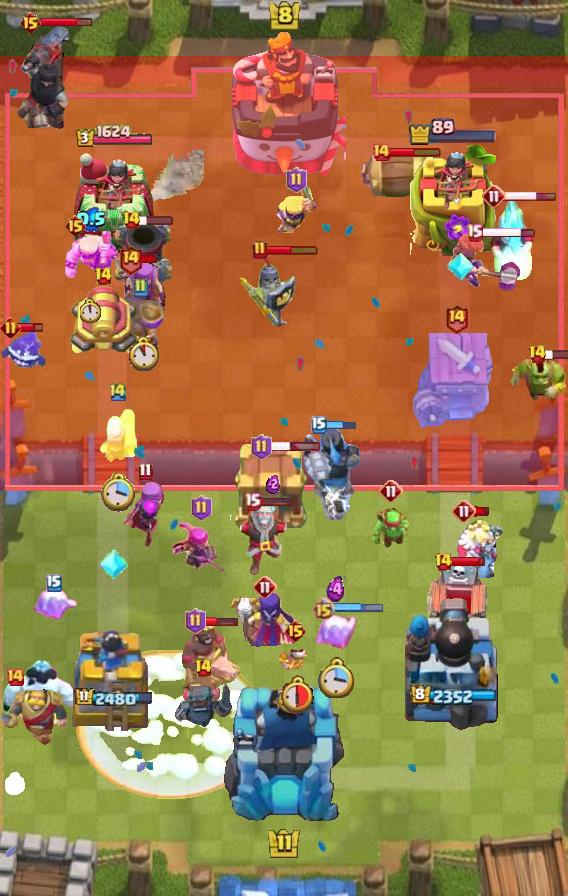archer-evolution: (172, 520, 230, 578)
bar: (481, 226, 536, 239), (266, 244, 319, 256), (389, 146, 442, 158), (332, 602, 383, 614), (503, 191, 557, 202), (40, 17, 93, 28), (269, 441, 321, 452), (9, 321, 44, 334), (450, 556, 486, 568), (138, 214, 174, 226), (204, 616, 239, 627), (258, 496, 293, 507), (325, 420, 357, 431), (544, 348, 568, 360), (140, 253, 159, 265), (474, 506, 491, 517)
bar-level: (444, 303, 469, 334), (118, 244, 143, 275), (253, 575, 277, 599), (452, 499, 476, 523), (379, 479, 403, 503), (482, 184, 506, 208), (284, 619, 307, 643), (64, 214, 87, 238), (19, 11, 42, 35), (185, 608, 206, 634), (191, 495, 212, 521), (251, 434, 272, 460), (286, 167, 307, 193), (312, 597, 335, 620), (0, 317, 21, 338), (108, 381, 128, 402), (5, 667, 25, 687), (371, 142, 391, 162), (194, 658, 213, 678), (434, 552, 453, 572), (528, 344, 547, 364), (94, 266, 113, 286), (122, 210, 141, 230), (244, 492, 261, 511), (466, 223, 483, 242), (132, 278, 148, 298), (252, 240, 268, 260), (46, 574, 62, 592), (311, 416, 327, 434), (138, 462, 153, 481)
barbarian-barrel: (358, 151, 434, 201)
barbarian-evolution: (63, 231, 120, 280), (275, 187, 317, 233)
cannoneer-tower: (405, 595, 501, 731)
clock: (318, 657, 355, 698), (277, 674, 314, 714), (101, 473, 136, 513), (126, 336, 161, 372), (80, 298, 102, 323), (5, 772, 25, 795)
dirt: (144, 150, 204, 208)
electro-spirit: (0, 330, 46, 374)
elixir: (75, 207, 107, 232), (326, 576, 346, 603), (266, 474, 280, 494)
firecracker: (97, 406, 139, 464)
goblin-brawler: (508, 354, 568, 408)
guard: (239, 251, 297, 331)
ice-spirit-evolution: (313, 611, 359, 653), (29, 587, 79, 625)
ice-spirit-evolution-symbol: (100, 547, 128, 581), (446, 251, 474, 283)
ice-wizard: (224, 498, 304, 576), (487, 193, 537, 285)
king-tower: (222, 31, 346, 181), (221, 682, 347, 826)
knight: (0, 688, 69, 745)
mini-pekka: (173, 679, 233, 729)
mortar: (111, 219, 175, 285)
mother-witch: (120, 480, 170, 550), (116, 258, 170, 322)
musketeer: (112, 294, 168, 354)
queen-tower: (64, 621, 164, 731), (410, 145, 496, 256), (71, 152, 157, 256)
royal-ghost: (452, 516, 506, 578)
skeleton: (279, 643, 311, 675)
spear-goblin: (371, 506, 411, 550)
tower-bar: (408, 118, 498, 146), (75, 124, 154, 149), (410, 685, 497, 707), (74, 687, 154, 709)
valkyrie-evolution: (449, 229, 521, 292)
witch: (230, 592, 300, 652)
